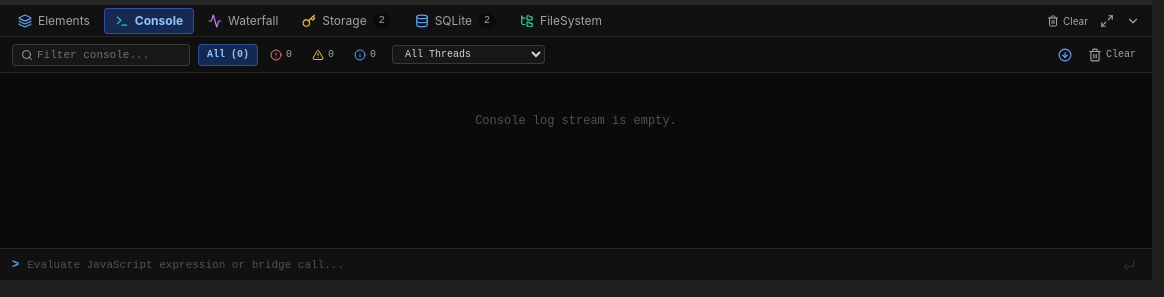
Test case: Milestone 4: Multi-Lane Debugger & Storage Suite › 7. DebuggerPanel Component › switches between debugger tabs smoothly
The width and height of the screenshot is (1164, 297).
// Switch to Elements
What coordinates should you click on to do the following:
click the button "Elements"
I would click on:
 (54, 20)
Its box is [8,8,100,32].
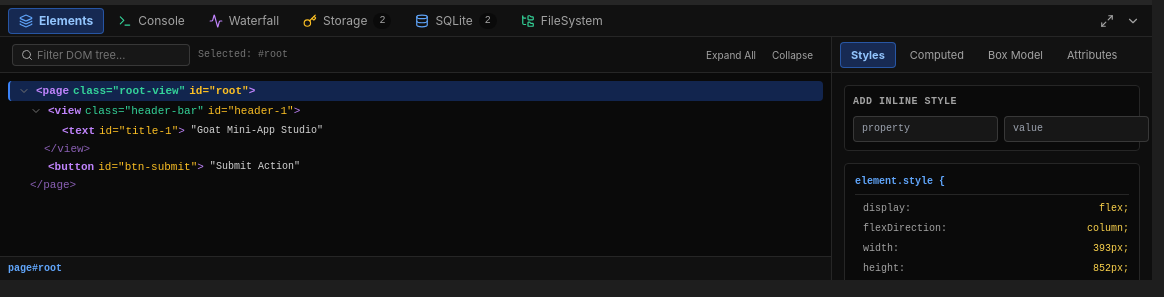
Expected: the element with test id "elements-inspector-panel" is shown
// Switch to Storage
What coordinates should you click on to do the following:
click the button "Storage 2"
I would click on:
 (347, 20)
Its box is [293,8,401,32].
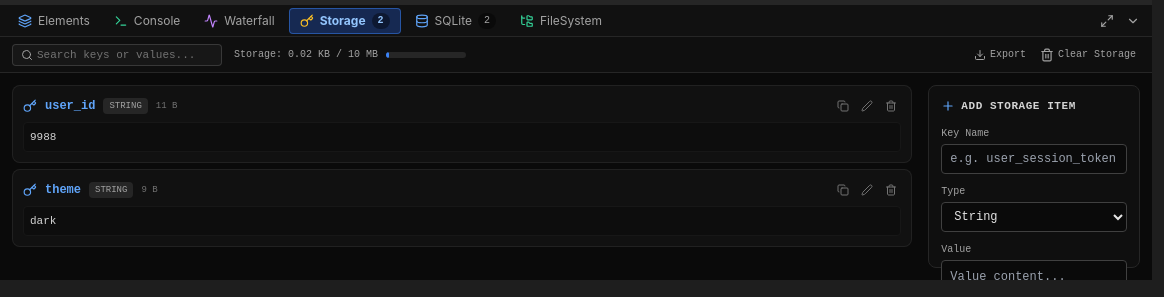
Expected: the element with test id "storage-explorer-panel" is shown
// Switch to SQLite
What coordinates should you click on to do the following:
click the button "SQLite 2"
I would click on:
 (455, 20)
Its box is [405,8,506,32].
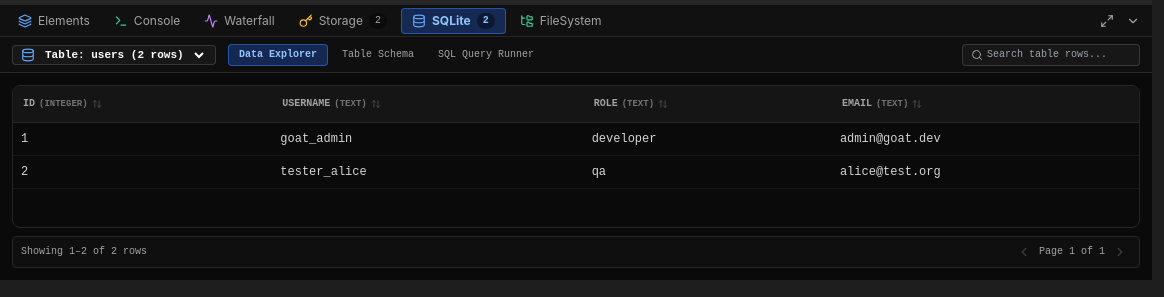
Expected: the element with test id "sqlite-viewer-panel" is shown
// Switch to FileSystem
What coordinates should you click on to do the following:
click the button "FileSystem"
I would click on:
 (561, 20)
Its box is [510,8,612,32].
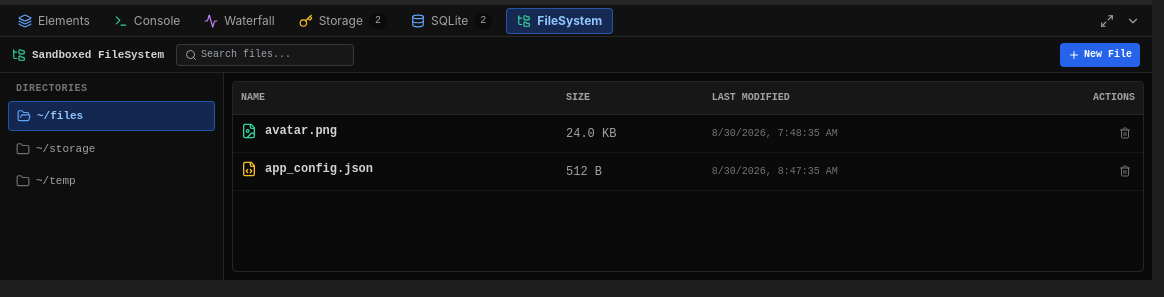
Expected: the element with test id "fs-browser-panel" is shown
// Switch back to Console
What coordinates should you click on to do the following:
click the button "Console"
I would click on:
 (147, 20)
Its box is [104,8,190,32].
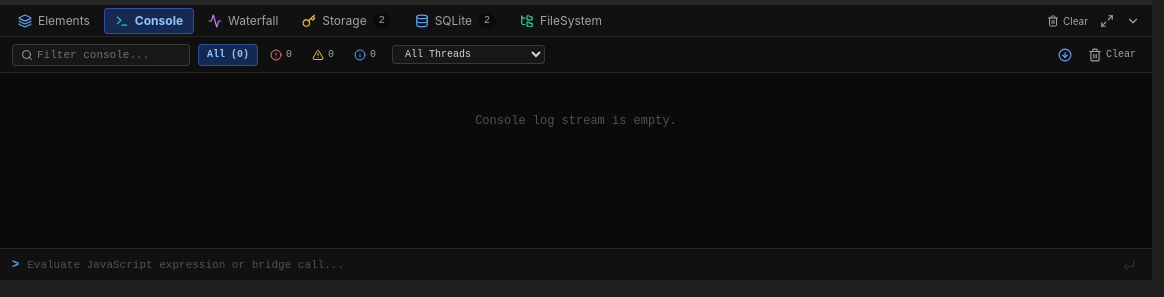
Expected: the element with test id "unified-console-panel" is shown
